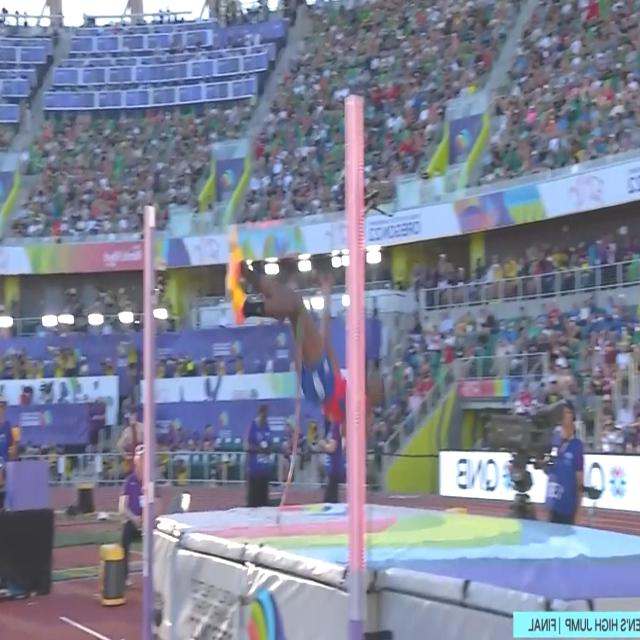land: (225, 236, 394, 428)
